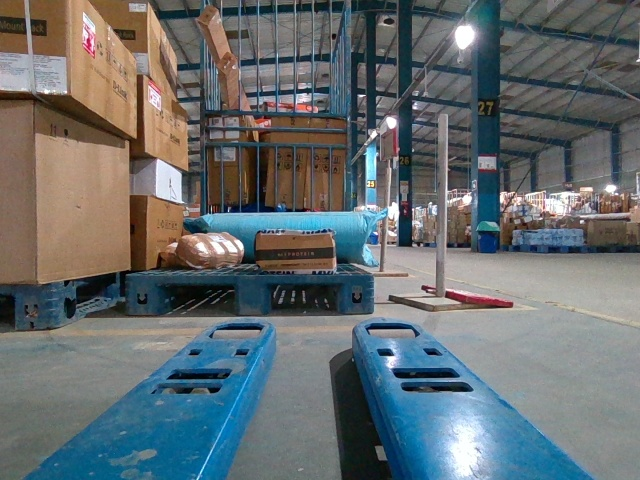block: (16, 279, 60, 328), (338, 273, 377, 314), (128, 273, 162, 316), (233, 274, 268, 313)
front: (128, 273, 373, 315)
hole pallet: (258, 275, 348, 314), (159, 282, 235, 316)
